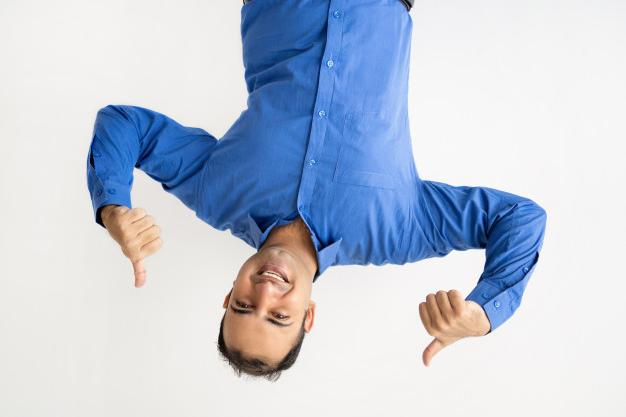thumbsdown: (116, 207, 163, 288), (418, 290, 464, 367)
